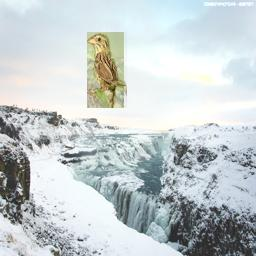Sparrow: (87, 32, 127, 108)
